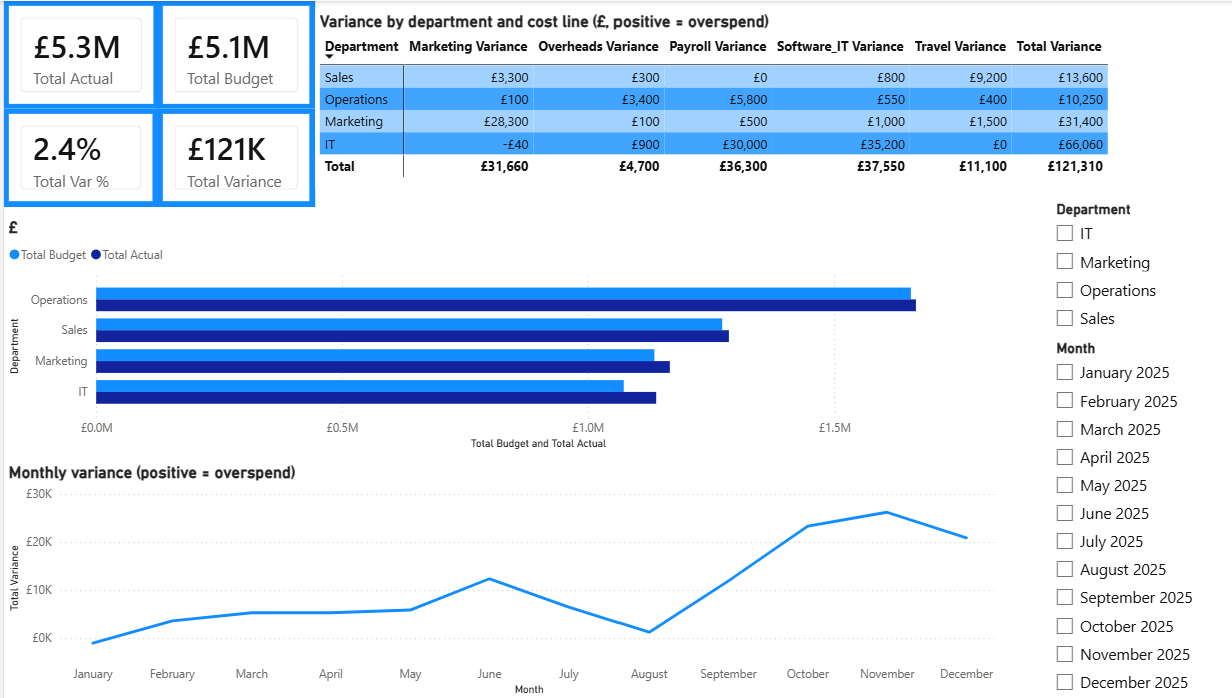

Layout of this report page (visuals, bound fields, positions):
{"tool":"powerbi","page":{"name":"Page 1","canvas":[1280,720],"ordinal":0},"visuals":[{"type":"cardVisual","fields":{"Data":["_Measures .Total Actual"]},"box":[0,0,159.7,111.3],"z":0},{"type":"cardVisual","fields":{"Data":["_Measures .Total Budget"]},"box":[158.7,0,161.8,111.3],"z":1},{"type":"cardVisual","fields":{"Data":["_Measures .Total Variance"]},"box":[158.7,111.3,161.8,101],"z":2},{"type":"cardVisual","fields":{"Data":["_Measures .Total Var %"]},"box":[0,111.3,158.7,101],"z":3},{"type":"clusteredBarChart","title":"Budget vs actual by department","fields":{"Category":["FY2025.Department"],"Y":["_Measures .Total Budget","_Measures .Total Actual"]},"box":[0,222.6,1028.5,244.3],"z":4},{"type":"lineChart","title":"Monthly variance (positive = overspend)","fields":{"Category":["FY2025.Month.Variation.Date Hierarchy.Year","FY2025.Month.Variation.Date Hierarchy.Quarter","FY2025.Month.Variation.Date Hierarchy.Month","FY2025.Month.Variation.Date Hierarchy.Day"],"Y":["_Measures .Total Variance"]},"box":[0,475.1,1028.5,245.3],"z":5},{"type":"pivotTable","title":"Variance by department and cost line (£, positive = overspend)","fields":{"Rows":["FY2025.Department"],"Values":["_Measures .Marketing Variance","_Measures .Overheads Variance","_Measures .Payroll Variance","_Measures .Software_IT Variance","_Measures .Travel Variance","_Measures .Total Variance"]},"box":[320.5,10.3,822.4,182.4],"z":6},{"type":"slicer","fields":{"Values":["FY2025.Department"]},"box":[1070.8,202,209.2,143.3],"z":7},{"type":"slicer","fields":{"Values":["FY2025.Month"]},"box":[1070.8,345.2,209.2,375.1],"z":8}]}

Visuals, with their boxes in screenshot pixels (x1, y1, x2, y2), scaled from the page's 1280x720 canvas onto the 1232x698 screenshot:
cardVisual - _Measures .Total Actual: (0, 0, 154, 108)
cardVisual - _Measures .Total Budget: (153, 0, 308, 108)
cardVisual - _Measures .Total Variance: (153, 108, 308, 206)
cardVisual - _Measures .Total Var %: (0, 108, 153, 206)
"Budget vs actual by department" clusteredBarChart: (0, 216, 990, 453)
"Monthly variance (positive = overspend)" lineChart: (0, 461, 990, 697)
"Variance by department and cost line (£, positive = overspend)" pivotTable: (308, 10, 1100, 187)
slicer - FY2025.Department: (1031, 196, 1231, 335)
slicer - FY2025.Month: (1031, 335, 1231, 697)
